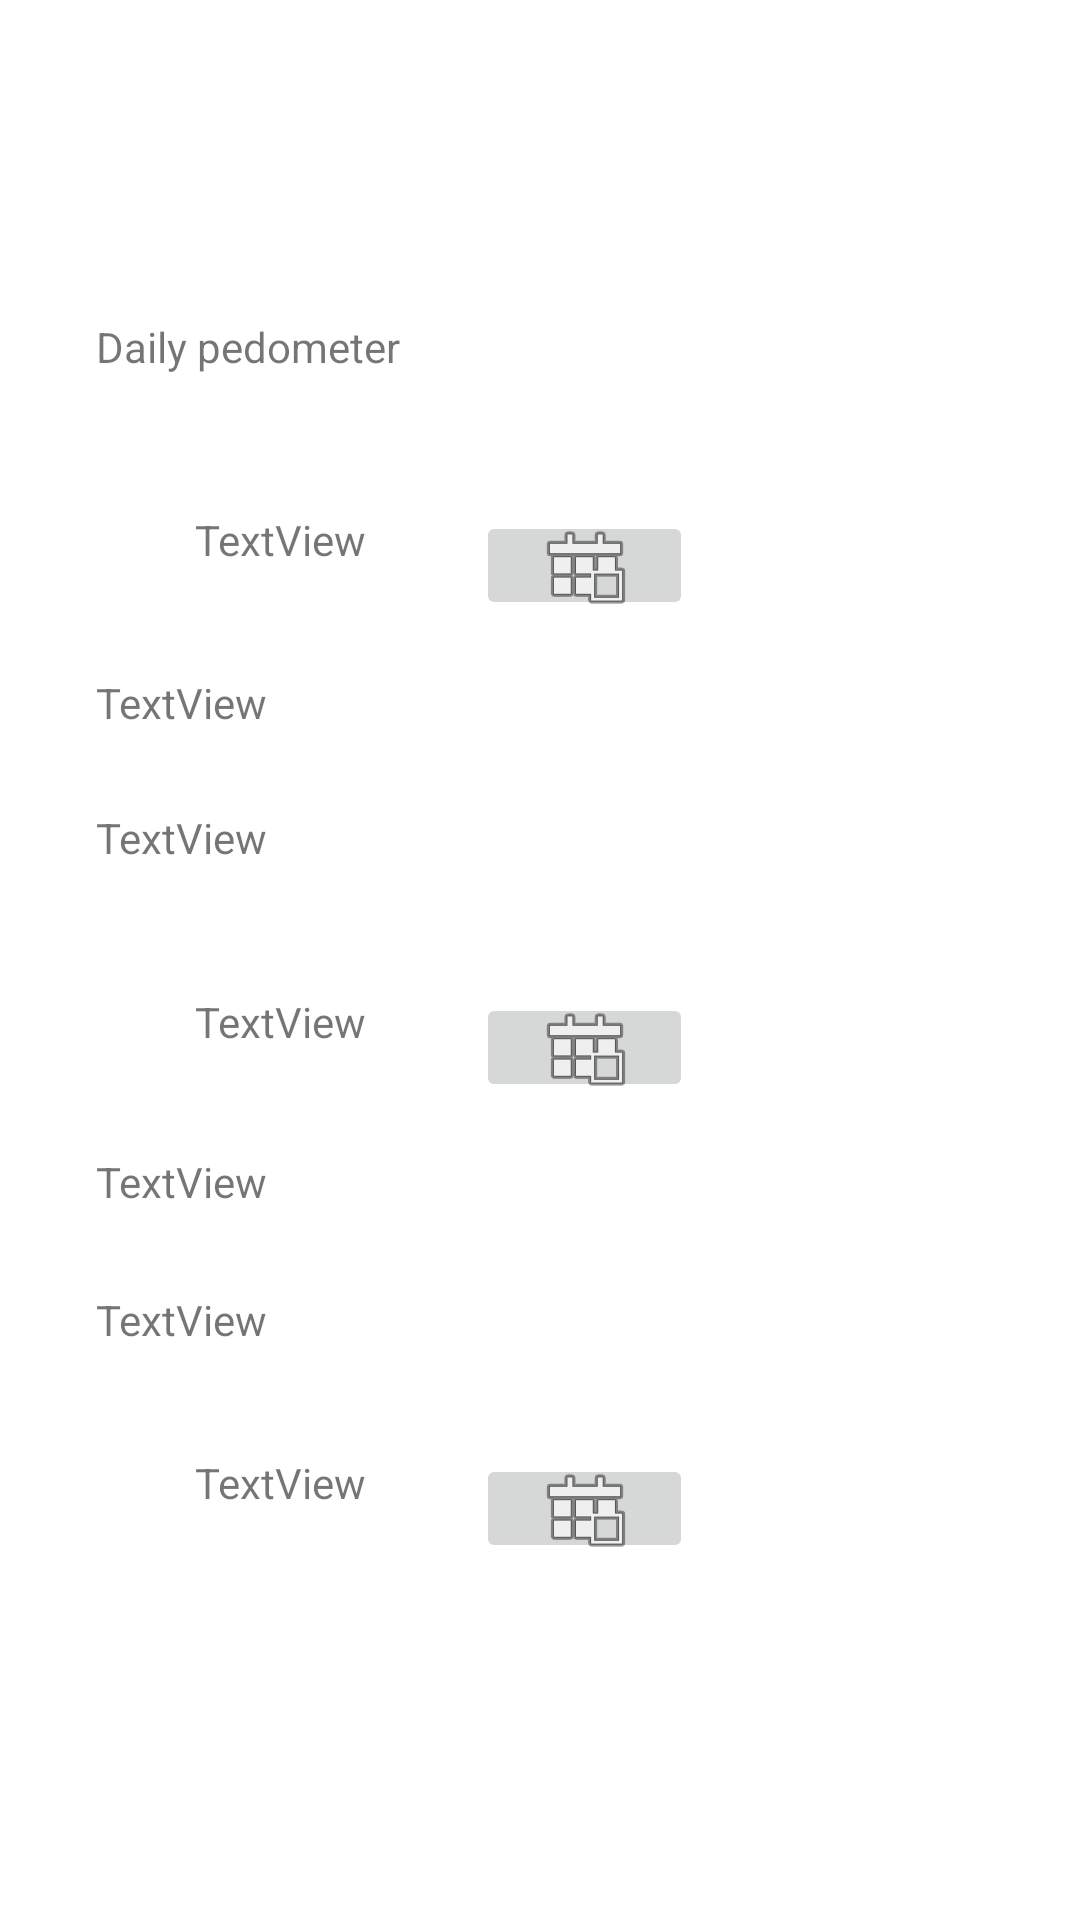

Where to tap for icons on this 1080w x 1920h app screen, as [x,y]:
today: [584,566], [584,1048], [584,1509]
